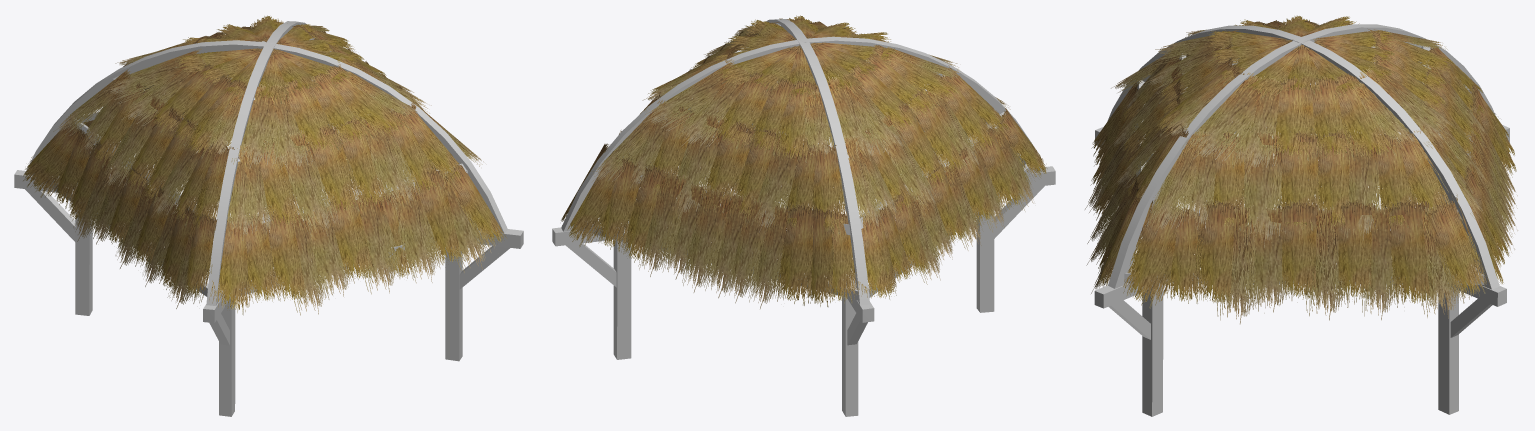
The model's file is Roof22.FBX.
The picture shows the model from 3 angles, left to right: view 1: azimuth 30°, elevation 25°; view 2: azimuth 150°, elevation 25°; view 3: azimuth 270°, elevation 25°; orthographic projection. The views are drawn at different scales.
Visible parts, largest first — view 1: Plane00267, polySurface237; view 2: Plane00267, polySurface237; view 3: Plane00267, polySurface237.
Boxes of the visible parts, x1,y1,x2,y2 form: Plane00267: (23,15,506,315); polySurface237: (14,21,523,416); Plane00267: (561,15,1047,308); polySurface237: (552,19,1055,416); Plane00267: (1085,15,1517,324); polySurface237: (1094,24,1509,416).
Bounding box in the file's own units: 625 × 527 × 668.
